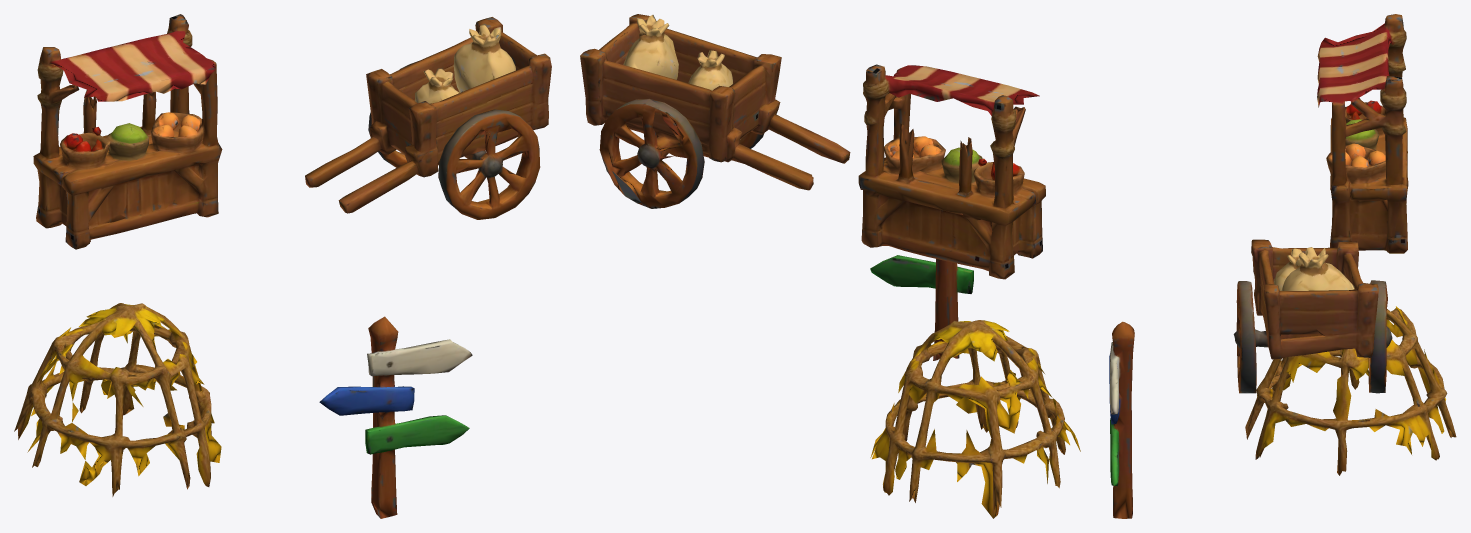
3 renders of one model, left to right at view 1: azimuth 30°, elevation 25°; view 2: azimuth 150°, elevation 25°; view 3: azimuth 270°, elevation 25°, orthographic.
Parts seen in each view (by area): view 1: world; view 2: world; view 3: world.
Boxes of the visible parts, bbox=[...] form: world: bbox=[14, 14, 551, 518]; world: bbox=[580, 14, 1080, 518]; world: bbox=[1109, 14, 1456, 518].
Size of the model in its own units: 0.9798 by 0.815 by 0.6329.
Materials: 1 (1 with a texture image).
